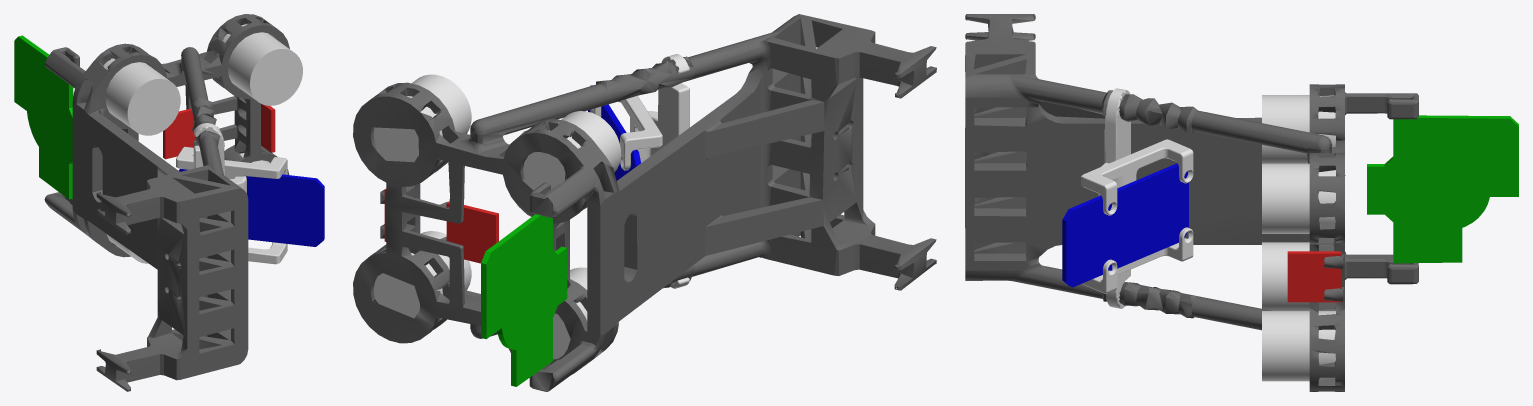
The model's file is builderbot-manipulator.glb.
3 renders of one model, left to right at view 1: azimuth 30°, elevation 25°; view 2: azimuth 150°, elevation 25°; view 3: azimuth 270°, elevation 25°, orthographic. The views are drawn at different scales.
Parts seen in each view (by area): view 1: Node; view 2: Node; view 3: Node.
Part boxes in pixels (box(x1,y1,x2,y2)): Node: box(14, 14, 324, 391); Node: box(353, 14, 936, 391); Node: box(965, 14, 1518, 391).
Bounding box in the file's own units: 0.1181 × 0.072 × 0.1568.
